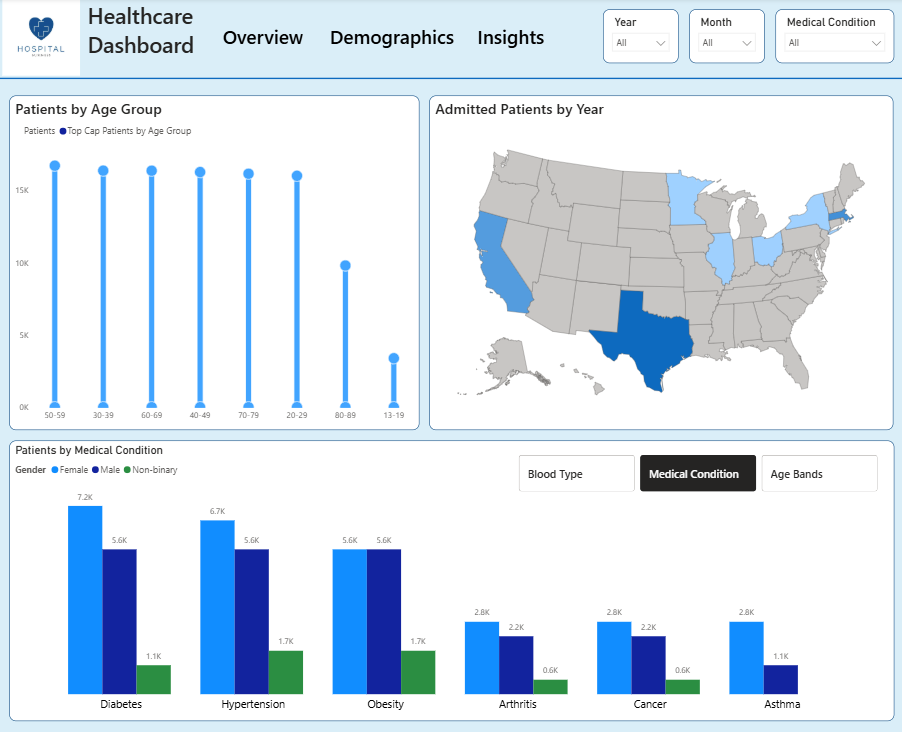

The dashboard page shown, as its layout file describes it:
{"tool":"powerbi","page":{"name":"Demographics","canvas":[1350,1091],"ordinal":1},"visuals":[{"type":"slicer","fields":{"Values":["DateTable.Month"]},"box":[1024,16,112,80],"z":0},{"type":"slicer","fields":{"Values":["DateTable.Year"]},"box":[896,16,112,80],"z":1000},{"type":"lineChart","title":"Patients by Age Group","fields":{"Y":["DAX Measures.Patients"],"Category":["Dim_Patient.Age Bands"],"Y2":["DAX Measures.Top Cap Patients by Age Group"]},"box":[16,144,608,496],"z":2000},{"type":"shapeMap","title":"Admitted Patients by Year","fields":{"Category":["Dim_Hospital.States"],"Value":["DAX Measures.Patients"]},"box":[640,144,688,496],"z":3000},{"type":"clusteredColumnChart","fields":{"Category":["Dim_Patient.Medical Condition"],"Y":["DAX Measures.Patients"],"Series":["Dim_Patient.Gender"]},"box":[16,656,1312,416],"z":5000},{"type":"shape","box":[0,112,1344,16],"z":9000},{"type":"image","box":[0,0,128,115],"z":10000},{"type":"textbox","box":[128,0,176,112],"z":11000},{"type":"actionButton","box":[320,32,144,48],"z":12000},{"type":"actionButton","box":[480,32,208,48],"z":13000},{"type":"actionButton","box":[704,32,112,48],"z":14000},{"type":"slicer","fields":{"Values":["Dim_Patient.Medical Condition"]},"box":[1152,16,176,80],"z":15000},{"type":"advancedSlicerVisual","fields":{"Values":["Parameter 2.Parameter"]},"box":[768,672,544,64],"z":16000}]}

Visuals, with their boxes in screenshot pixels (x1, y1, x2, y2), scaled from the page's 1350x1091 canvas onto the 902x732 screenshot:
slicer - DateTable.Month: x1=684, y1=11, x2=759, y2=64
slicer - DateTable.Year: x1=599, y1=11, x2=673, y2=64
"Patients by Age Group" lineChart: x1=11, y1=97, x2=417, y2=429
"Admitted Patients by Year" shapeMap: x1=428, y1=97, x2=887, y2=429
clusteredColumnChart - Dim_Patient.Medical Condition x DAX Measures.Patients: x1=11, y1=440, x2=887, y2=719
shape: x1=0, y1=75, x2=898, y2=86
image: x1=0, y1=0, x2=86, y2=77
textbox: x1=86, y1=0, x2=203, y2=75
actionButton: x1=214, y1=21, x2=310, y2=54
actionButton: x1=321, y1=21, x2=460, y2=54
actionButton: x1=470, y1=21, x2=545, y2=54
slicer - Dim_Patient.Medical Condition: x1=770, y1=11, x2=887, y2=64
advancedSlicerVisual - Parameter 2.Parameter: x1=513, y1=451, x2=877, y2=494
